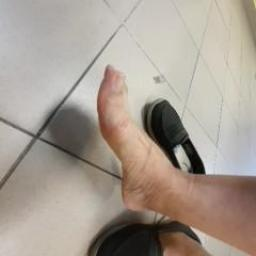Medial View -Right Foot-: (71, 47, 222, 240)
